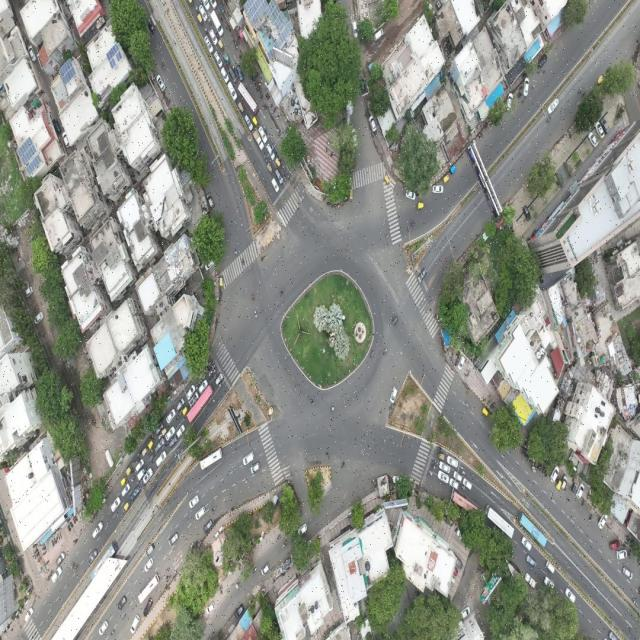3W: (390, 312, 401, 328), (122, 498, 132, 514), (595, 72, 604, 88), (148, 438, 157, 453), (480, 405, 489, 420), (160, 426, 171, 438), (554, 476, 562, 492), (384, 170, 391, 188), (126, 463, 134, 478), (442, 172, 451, 185), (449, 163, 458, 176), (265, 162, 274, 175), (141, 444, 149, 458), (197, 12, 204, 28), (182, 405, 192, 416), (436, 450, 446, 461), (120, 475, 129, 487), (238, 100, 245, 115), (218, 38, 224, 53), (416, 201, 425, 211), (252, 115, 258, 129), (571, 482, 578, 493), (275, 157, 281, 169), (188, 0, 194, 8)
Bus: (515, 503, 550, 552), (90, 538, 120, 584), (184, 381, 214, 426), (484, 500, 516, 541), (450, 487, 482, 523), (133, 572, 162, 604), (236, 80, 259, 117), (196, 447, 224, 473)
Cars: (90, 519, 104, 541), (564, 584, 578, 606), (541, 572, 556, 592), (154, 72, 167, 95), (536, 51, 550, 72), (233, 600, 246, 622), (258, 560, 273, 579), (415, 266, 429, 286), (129, 613, 141, 636), (600, 113, 612, 136), (194, 502, 208, 521), (372, 26, 386, 45), (546, 97, 560, 116), (524, 550, 538, 569), (296, 519, 309, 539), (143, 596, 154, 619), (145, 14, 156, 37), (87, 546, 99, 567), (520, 534, 534, 552), (54, 550, 67, 569), (227, 81, 238, 103), (258, 123, 269, 145), (597, 510, 608, 532), (129, 484, 141, 504), (198, 377, 210, 397), (548, 464, 560, 484), (389, 381, 399, 405), (50, 566, 63, 584), (167, 530, 180, 548), (203, 35, 214, 56), (219, 64, 230, 85), (368, 112, 378, 135), (98, 619, 110, 638), (110, 495, 122, 514), (142, 467, 154, 486), (587, 131, 599, 150), (143, 557, 156, 574), (437, 469, 450, 486), (166, 407, 177, 427), (23, 604, 35, 622), (156, 449, 168, 467), (544, 557, 556, 575), (188, 494, 202, 509), (236, 62, 246, 83), (243, 451, 257, 466), (248, 461, 262, 476), (188, 392, 199, 411), (198, 4, 209, 23), (213, 50, 224, 69), (243, 113, 254, 132), (350, 15, 358, 41), (404, 185, 417, 201), (446, 454, 459, 470), (206, 190, 215, 213), (351, 125, 359, 150), (506, 91, 514, 116), (391, 472, 405, 486), (438, 459, 451, 474), (202, 519, 214, 535), (448, 476, 460, 492), (204, 600, 216, 616), (117, 594, 127, 613), (121, 482, 131, 501), (209, 27, 219, 46), (266, 143, 276, 162), (595, 122, 605, 141), (522, 204, 532, 223), (456, 352, 466, 371), (575, 482, 585, 501), (155, 437, 166, 454), (215, 370, 225, 388), (522, 75, 530, 97), (622, 566, 633, 582), (271, 176, 280, 195), (228, 67, 238, 84), (274, 168, 284, 185), (175, 424, 186, 439), (609, 538, 621, 551), (616, 549, 628, 562), (145, 542, 156, 556), (431, 184, 445, 195), (462, 478, 473, 492), (561, 472, 568, 493), (155, 420, 164, 436), (166, 424, 175, 440), (169, 433, 178, 449), (359, 74, 366, 94), (135, 457, 144, 472), (177, 398, 186, 413), (187, 383, 194, 402), (452, 470, 462, 483), (201, 0, 211, 10)
LCV: (210, 9, 224, 37), (252, 126, 265, 152), (522, 570, 536, 589), (222, 50, 230, 64)
M2W: (74, 559, 80, 575), (189, 537, 195, 552), (31, 628, 38, 640), (576, 83, 583, 95), (308, 394, 314, 408), (632, 598, 640, 608), (383, 344, 388, 360), (110, 625, 116, 638), (70, 560, 76, 572), (136, 448, 142, 460), (160, 61, 167, 71), (329, 403, 336, 413), (370, 348, 375, 362), (214, 29, 220, 40), (252, 565, 258, 576), (210, 503, 216, 514), (121, 611, 127, 622), (31, 540, 37, 550), (175, 414, 181, 424), (194, 4, 200, 14), (259, 92, 264, 104), (281, 162, 287, 172), (410, 220, 416, 230), (427, 468, 433, 478), (340, 460, 346, 470), (371, 477, 377, 487), (282, 540, 288, 550), (32, 548, 40, 555), (460, 484, 467, 492), (430, 463, 437, 471), (37, 556, 43, 565), (72, 538, 78, 547), (207, 17, 213, 26), (263, 154, 269, 163), (56, 532, 60, 545), (280, 285, 284, 298), (141, 485, 146, 495), (150, 446, 155, 456), (282, 172, 287, 182), (231, 503, 236, 513), (165, 567, 172, 574), (51, 537, 55, 549), (130, 468, 138, 474), (157, 432, 163, 440), (231, 64, 237, 72), (464, 401, 470, 409), (581, 496, 585, 508), (589, 512, 593, 524), (433, 457, 439, 465), (69, 520, 74, 529), (136, 456, 141, 465), (269, 102, 274, 111), (276, 112, 281, 121), (276, 128, 281, 137), (254, 310, 258, 321), (544, 469, 548, 480), (130, 475, 136, 482), (138, 478, 144, 485), (545, 116, 551, 123), (624, 534, 631, 540), (208, 358, 212, 368), (234, 247, 238, 257), (250, 292, 254, 302), (224, 61, 228, 71), (265, 103, 269, 113), (264, 92, 269, 100), (272, 105, 276, 115), (263, 124, 267, 134), (271, 141, 275, 151), (279, 156, 283, 166), (288, 172, 292, 182), (477, 134, 482, 142), (480, 130, 485, 138), (536, 463, 540, 473), (66, 524, 70, 533), (218, 380, 222, 389), (242, 258, 246, 267), (205, 27, 209, 36), (250, 76, 256, 82), (253, 81, 259, 87), (266, 133, 270, 142), (275, 150, 279, 159), (522, 448, 526, 457), (460, 468, 466, 474), (179, 408, 184, 415), (213, 368, 218, 375), (517, 92, 522, 99), (438, 445, 443, 452), (277, 535, 284, 540), (59, 531, 62, 542), (195, 385, 200, 391), (542, 464, 545, 474), (165, 441, 169, 448), (263, 103, 267, 110), (73, 516, 76, 525), (532, 458, 535, 467), (539, 463, 542, 472), (621, 543, 626, 548), (208, 371, 212, 377), (212, 363, 216, 369), (235, 44, 239, 50), (256, 87, 262, 91), (267, 94, 270, 102), (526, 451, 528, 463), (258, 90, 262, 95), (525, 449, 527, 459), (210, 376, 213, 382)
